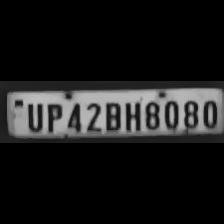0: (200, 97, 220, 128), (162, 97, 180, 129)
2: (83, 100, 101, 132)
4: (63, 100, 83, 134)
8: (180, 97, 200, 129), (142, 98, 160, 130)
B: (102, 99, 122, 131)
H: (122, 98, 140, 132)
P: (43, 100, 62, 134)
U: (23, 100, 43, 132)
